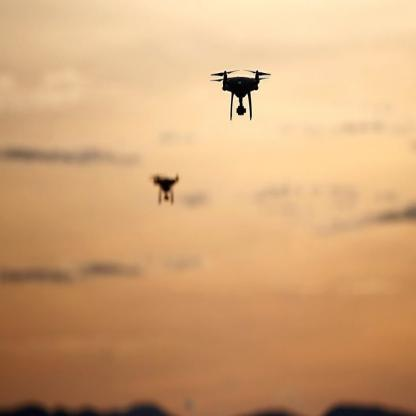drone: (207, 63, 274, 118), (150, 168, 183, 203)
